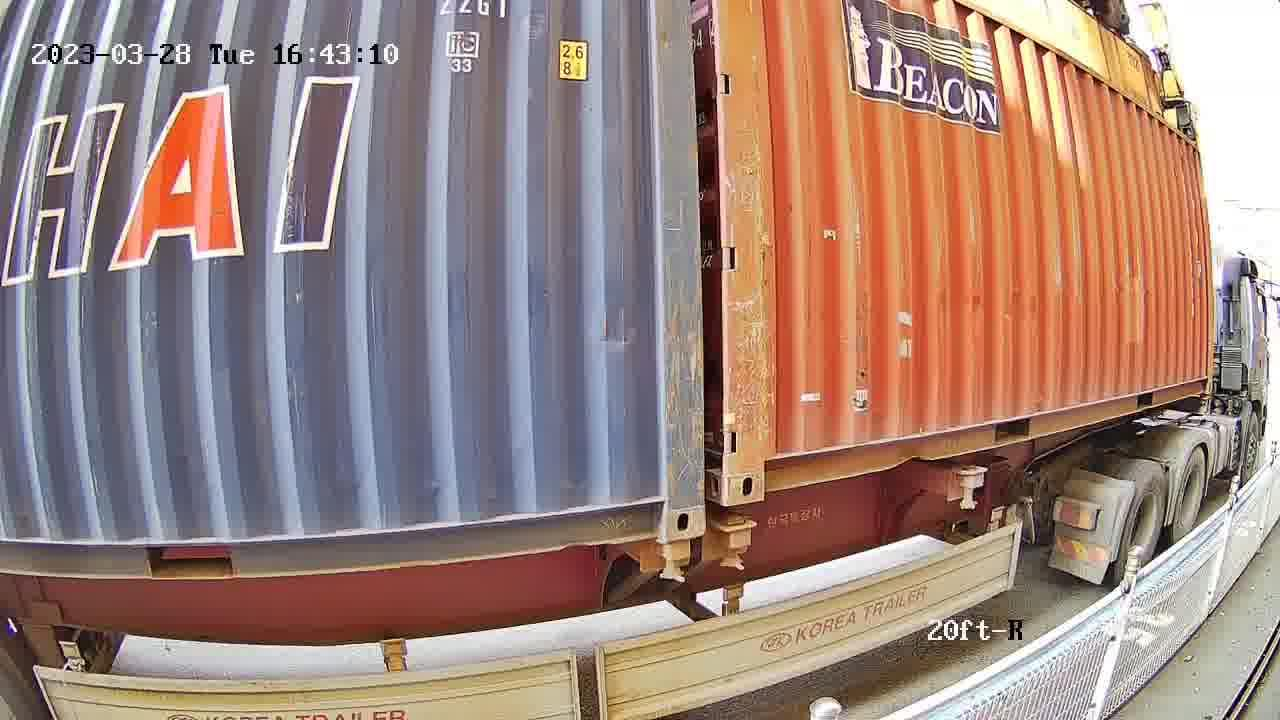Cone: (713, 516, 756, 572), (651, 540, 692, 585)
Hole_L: (724, 427, 792, 507)
Hole_R: (625, 463, 706, 541)
Tire: (1118, 467, 1167, 581), (1172, 450, 1206, 541)
